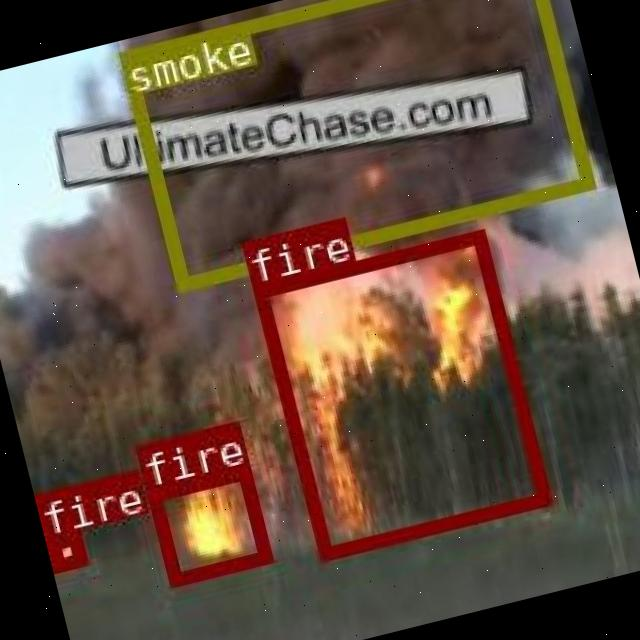fire: (250, 227, 548, 558), (144, 464, 270, 584), (44, 527, 86, 571)
smoke: (118, 0, 593, 289)
